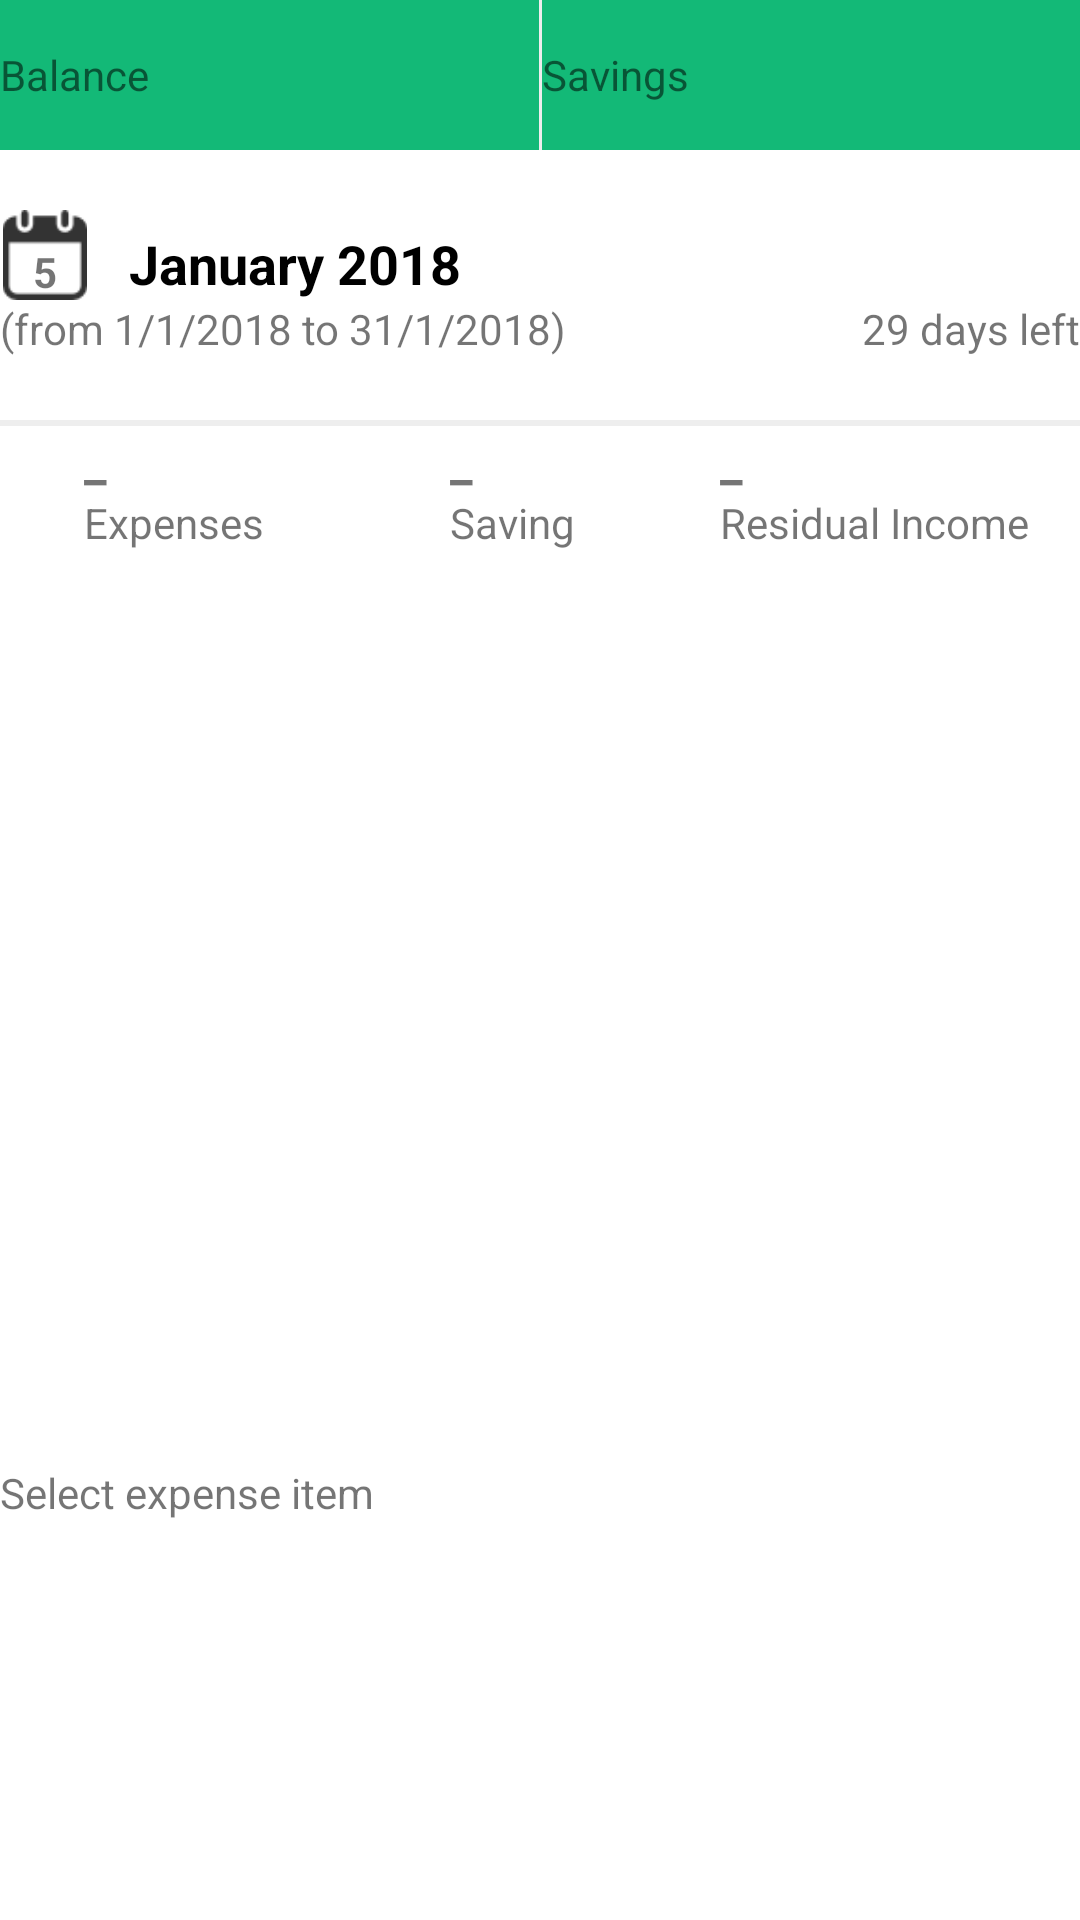

Where to tap for icons on this 1080px x 1920px app screen, as [x,y]:
calendar: [45,255]
